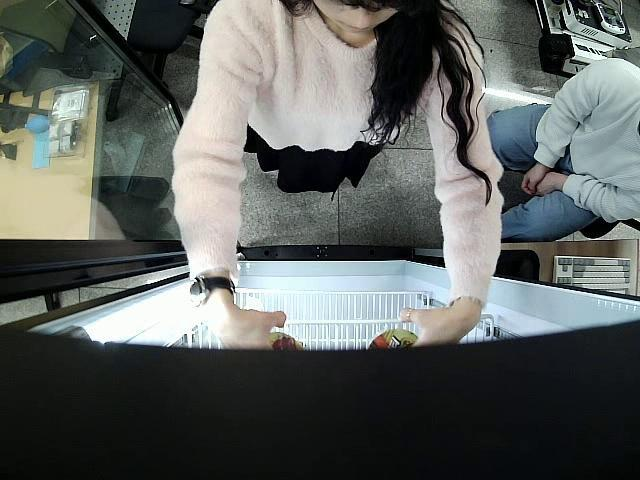04_chapagetti_S: (364, 326, 425, 356), (265, 332, 311, 359)
